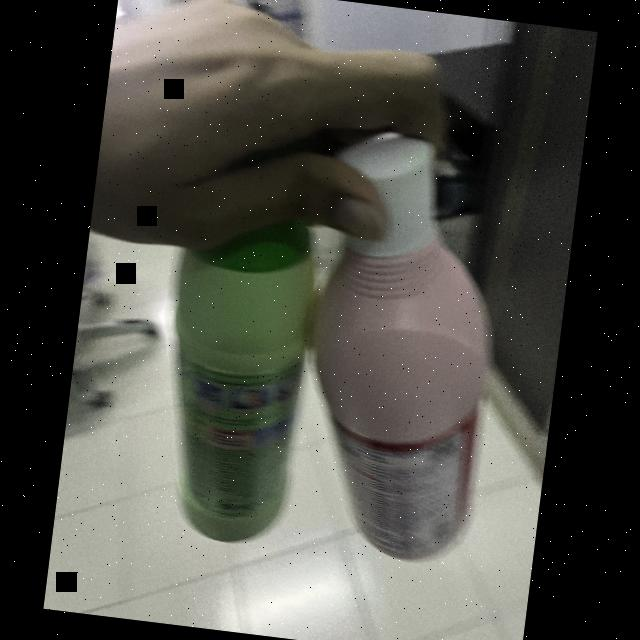chemical_plastic_bottle: (282, 123, 531, 572), (146, 195, 324, 550)
